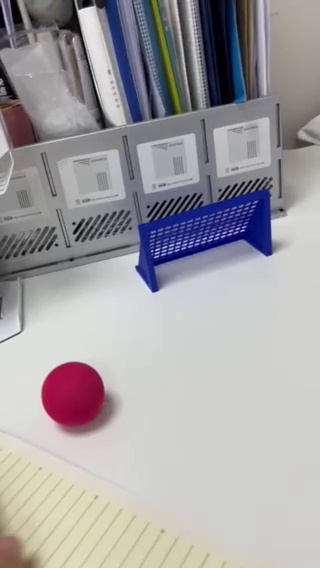goal: (130, 187, 289, 294)
redball: (39, 361, 105, 428)
